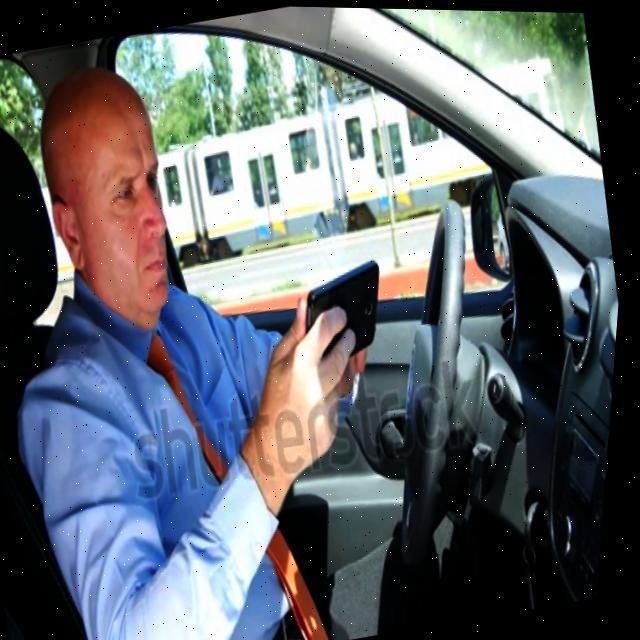PhoneCall: (292, 256, 400, 362)
